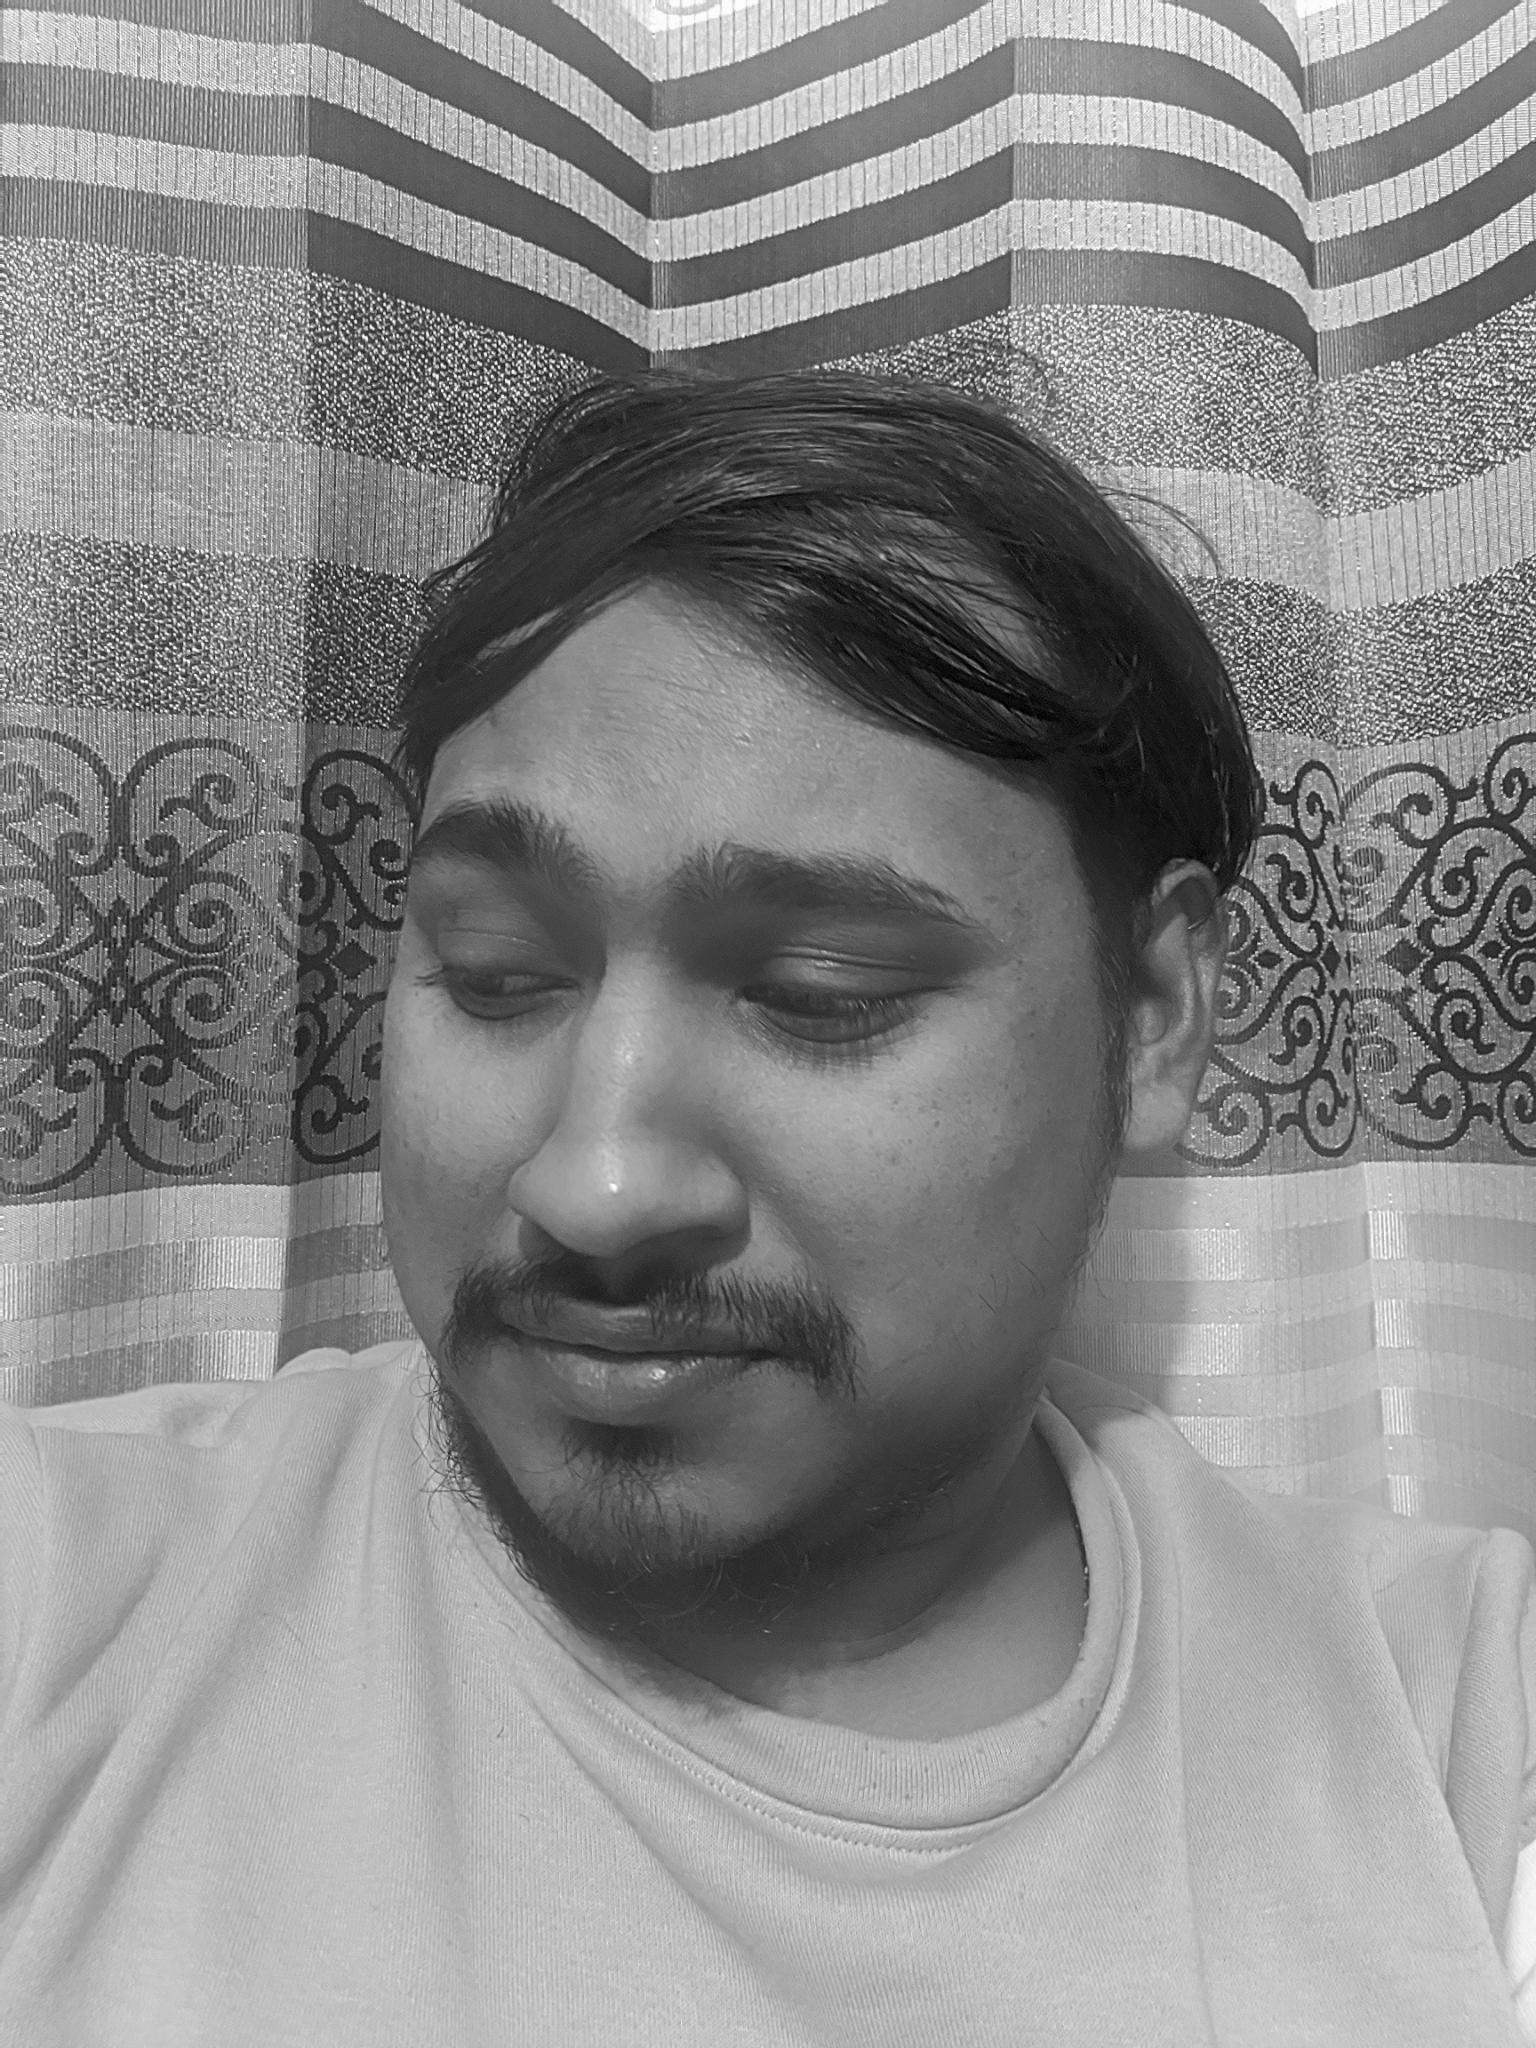Sad: (349, 753, 1055, 1585)
